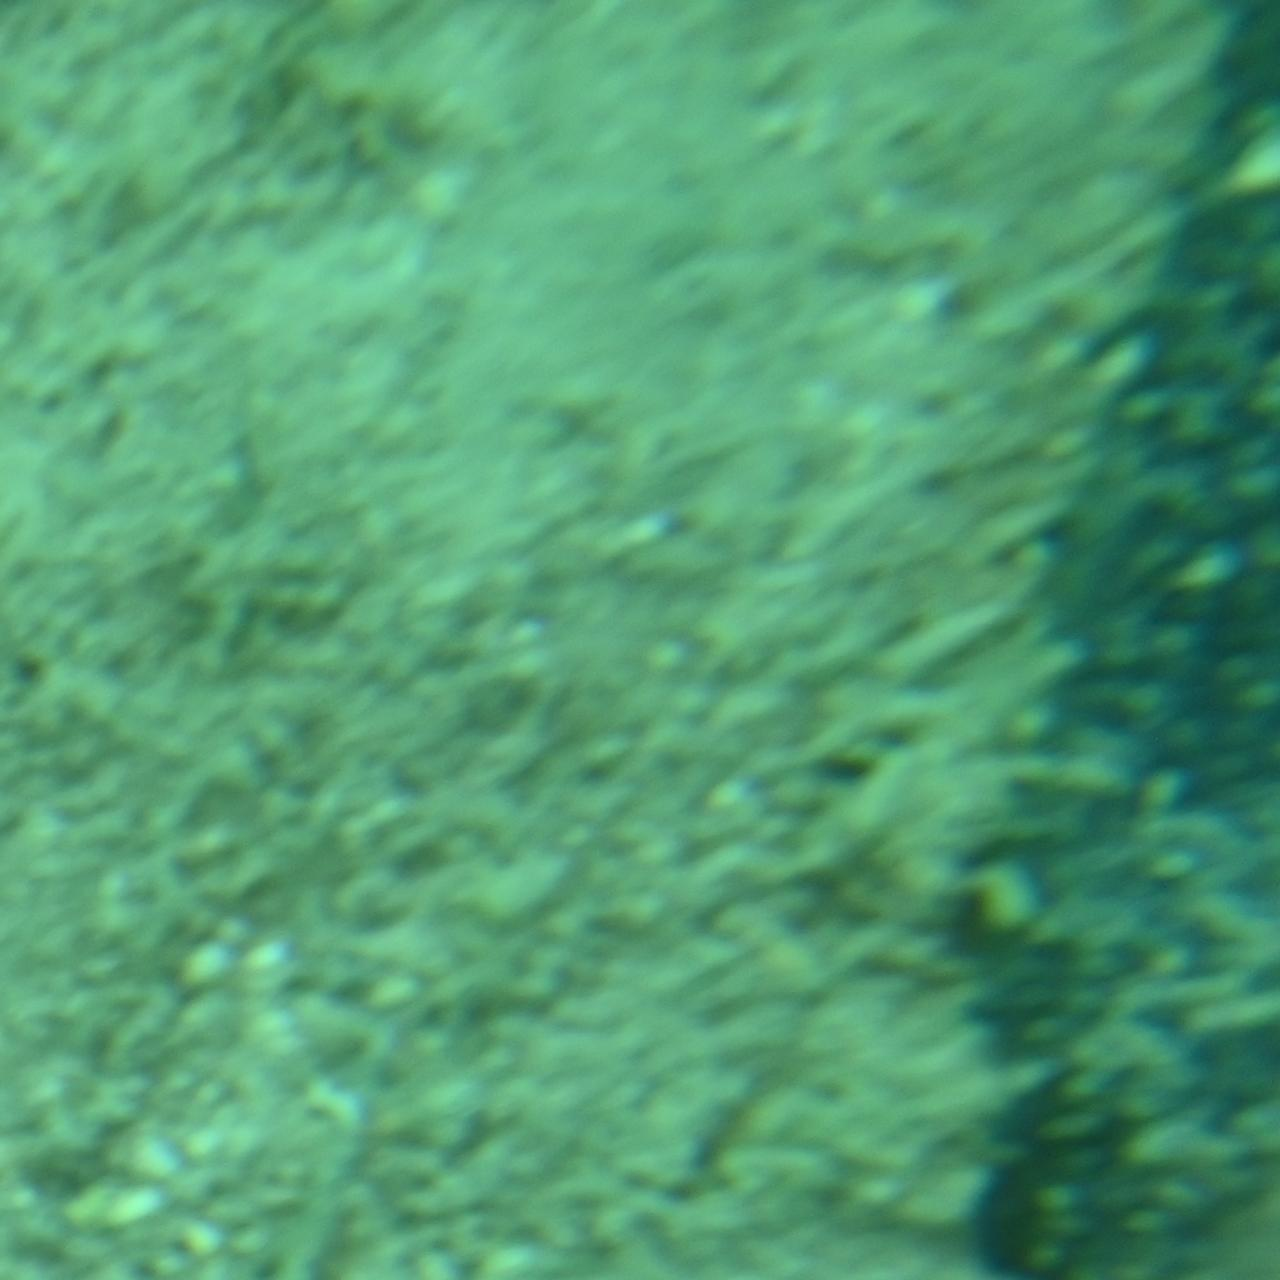Holothuria tubulosa: (968, 0, 1280, 1280)
